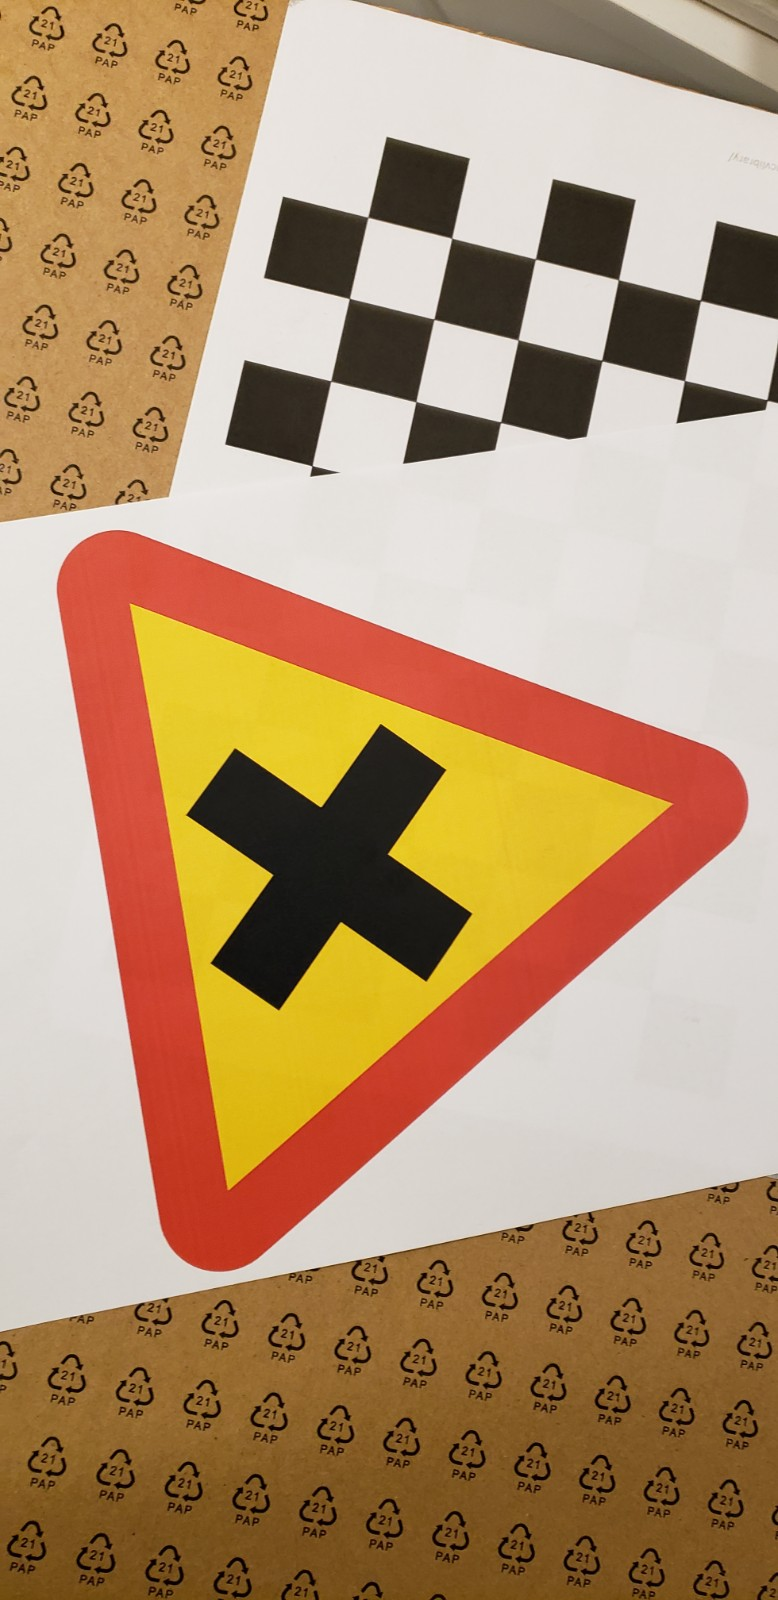junction: (37, 434, 735, 1316)
